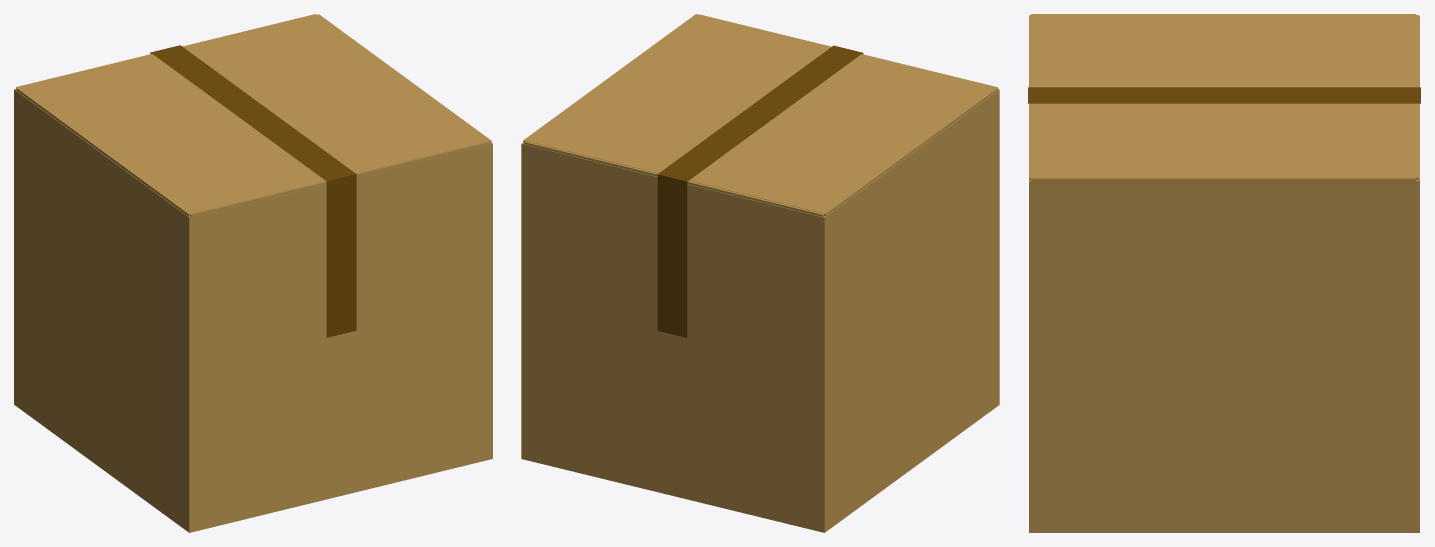
Rendered from Doboz_zart.fbx.
3 renders of one model, left to right at view 1: azimuth 30°, elevation 25°; view 2: azimuth 150°, elevation 25°; view 3: azimuth 270°, elevation 25°, orthographic. The views are drawn at different scales.
Visible parts, largest first — view 1: Cube, Plane, Plane.001; view 2: Cube, Plane, Plane.002; view 3: Cube, Plane.
Part boxes in pixels (left/top/right/bottom): Cube: left=14, top=14, right=492, bottom=532; Plane: left=151, top=45, right=355, bottom=181; Plane.001: left=326, top=174, right=356, bottom=337; Cube: left=521, top=14, right=999, bottom=532; Plane: left=658, top=45, right=862, bottom=181; Plane.002: left=657, top=174, right=687, bottom=337; Cube: left=1029, top=14, right=1419, bottom=532; Plane: left=1028, top=87, right=1420, bottom=103.
Bounding box in the file's own units: 203 × 204 × 204.
